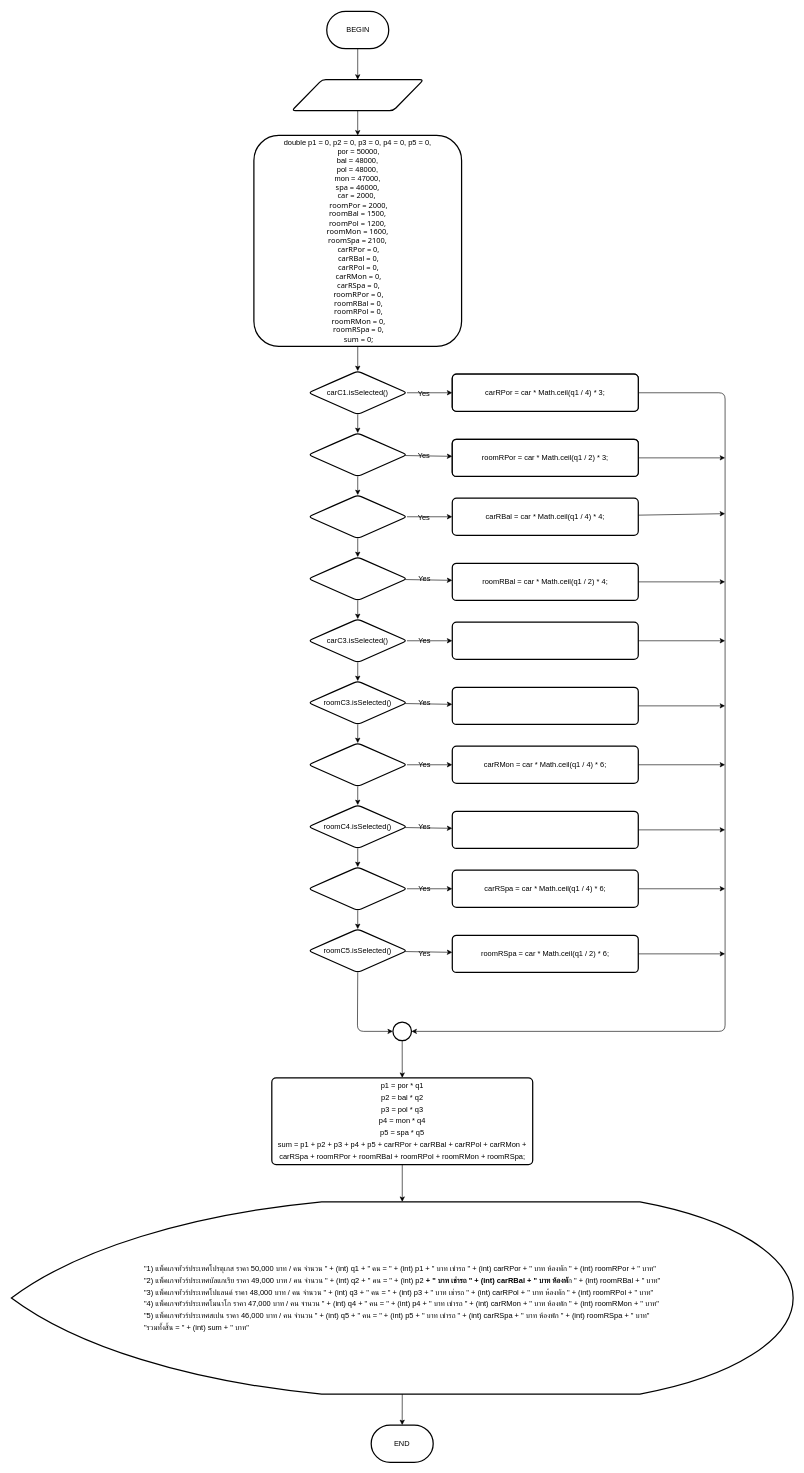
Some shapes in this 804 by 1473 pixel diagram are drawn without their labels. Each missing label, with the centre of its shape:
"carC2.isSelected()" belongs at (357,516).
"carC4.isSelected()" belongs at (357,764).
"carC5.isSelected()" belongs at (357,888).
"carRPol = car * Math.ceil(q1 / 4) * 5;" belongs at (545,640).
"double q1, q2, q3, q4, q5" belongs at (357,95).
"roomC1.isSelected()" belongs at (357,454).
"roomC2.isSelected()" belongs at (357,578).
"roomRMon = car * Math.ceil(q1 / 2) * 6;" belongs at (545,829).
"roomRPol = car * Math.ceil(q1 / 2) * 5;" belongs at (545,705).
